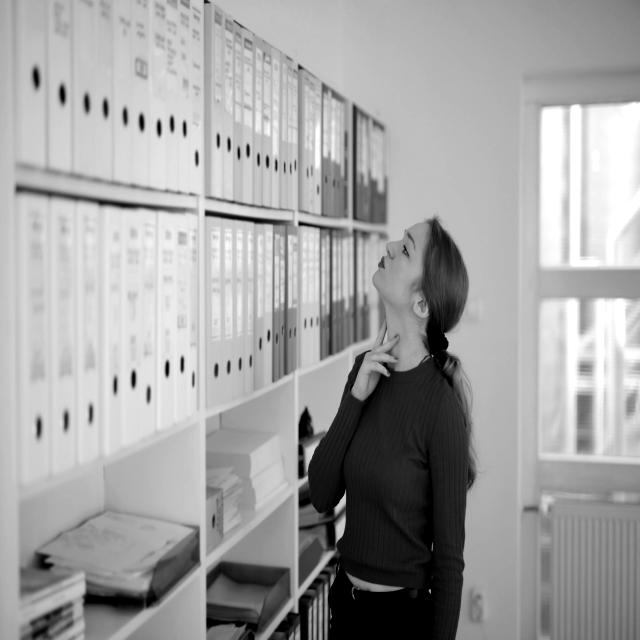No-Vest: (338, 365, 471, 623)
